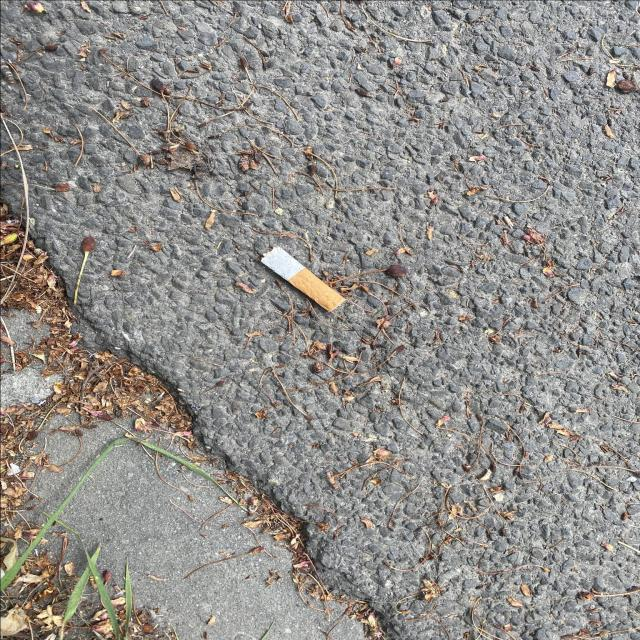other waste: (259, 246, 346, 312)
